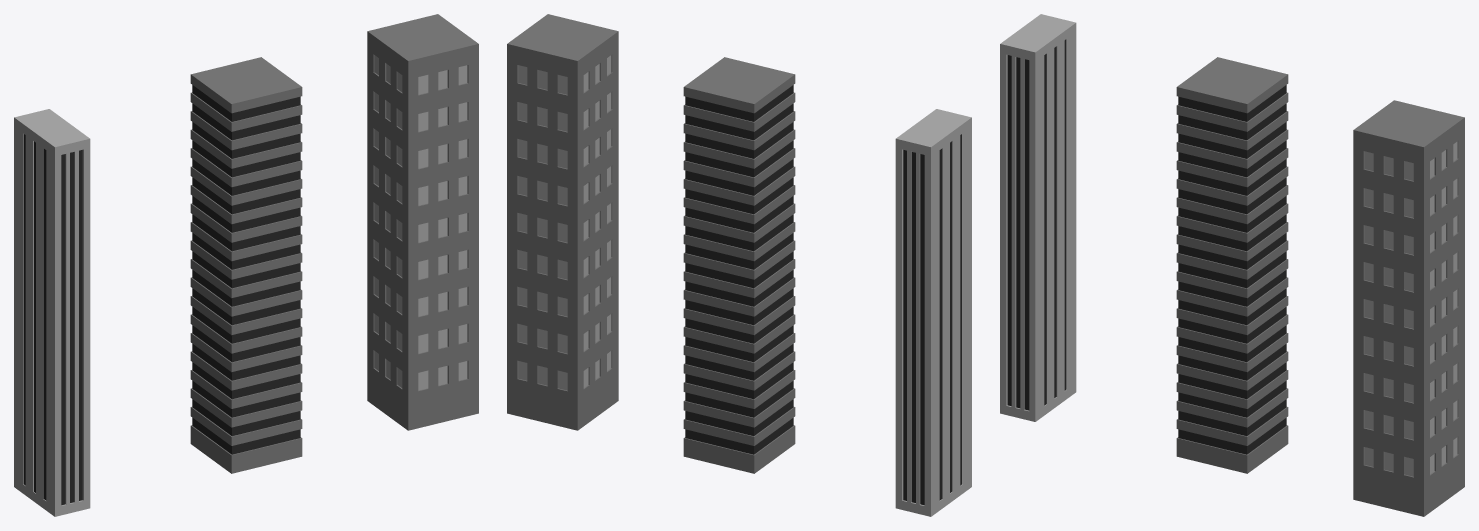
File: Mesh_BendingBuilding.fbx
3 views of the same model, side by side, from view 1: azimuth 30°, elevation 25°; view 2: azimuth 150°, elevation 25°; view 3: azimuth 330°, elevation 25° (orthographic).
Visible parts, largest first — view 1: BendingBuilding_C, BendingBuilding_B, BendingBuilding_A; view 2: BendingBuilding_C, BendingBuilding_B, BendingBuilding_A; view 3: BendingBuilding_C, BendingBuilding_B, BendingBuilding_A.
Part boxes in pixels (x1,y1,x2,y2): BendingBuilding_C: [367, 14, 478, 430]; BendingBuilding_B: [190, 57, 302, 473]; BendingBuilding_A: [14, 109, 90, 516]; BendingBuilding_C: [507, 14, 618, 430]; BendingBuilding_B: [683, 57, 795, 473]; BendingBuilding_A: [895, 109, 971, 516]; BendingBuilding_C: [1353, 100, 1464, 516]; BendingBuilding_B: [1176, 57, 1288, 473]; BendingBuilding_A: [1000, 14, 1076, 421].
Bounding box in the file's own units: 24000 × 20000 × 4000.
